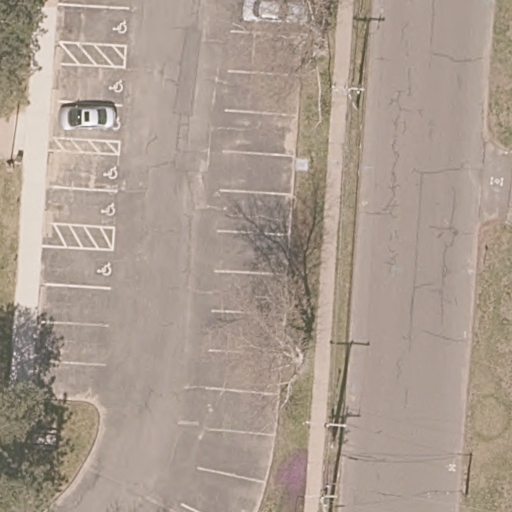DT: (347, 83, 368, 101), (326, 415, 349, 431)
